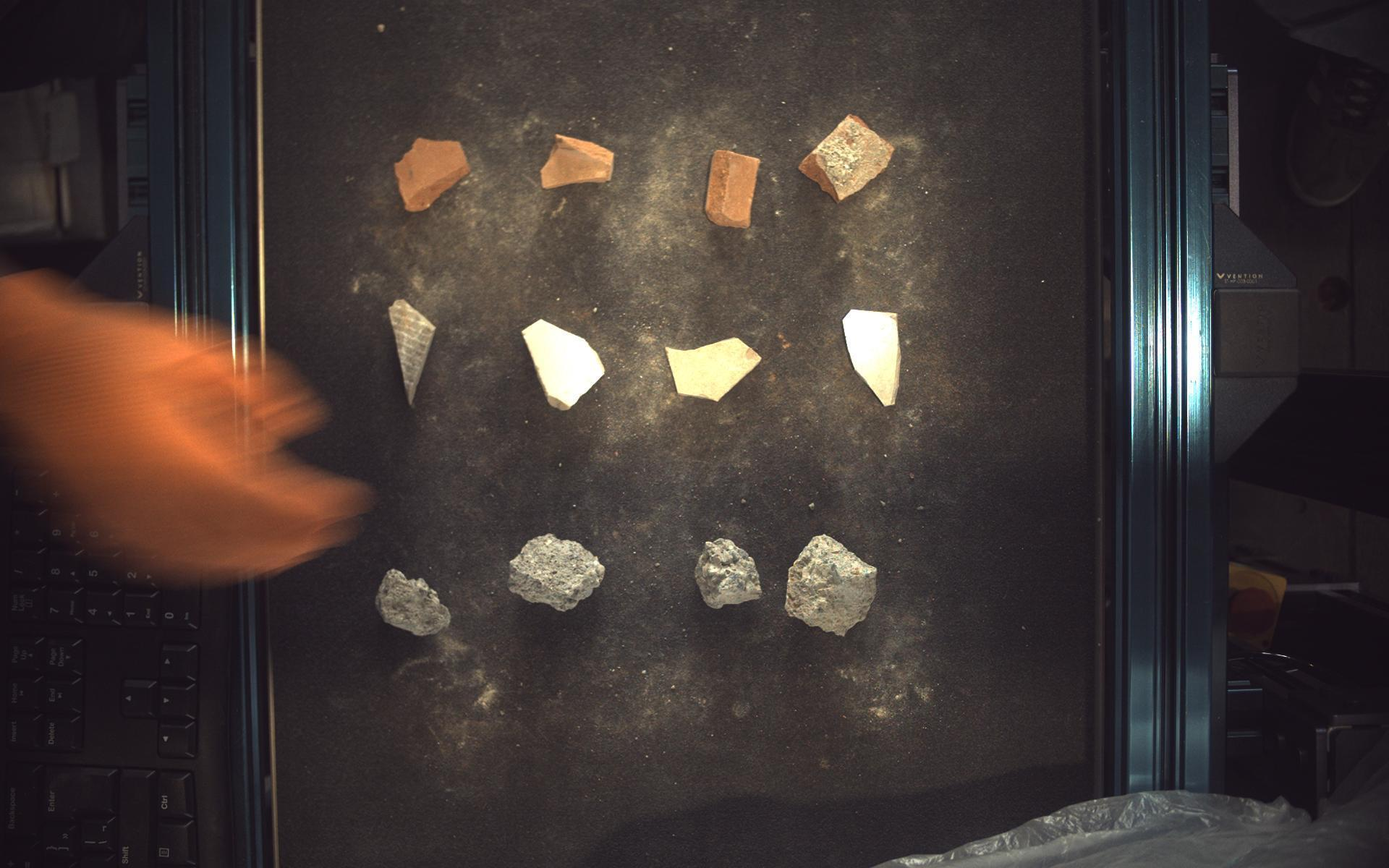brick: (800, 113, 896, 200), (394, 137, 470, 211), (707, 149, 761, 227), (541, 134, 615, 187)
concrete: (786, 535, 879, 637), (509, 535, 606, 612), (376, 571, 451, 637), (696, 539, 763, 610)
tile: (522, 319, 605, 410), (667, 337, 763, 401), (844, 309, 903, 406), (388, 299, 436, 406)
